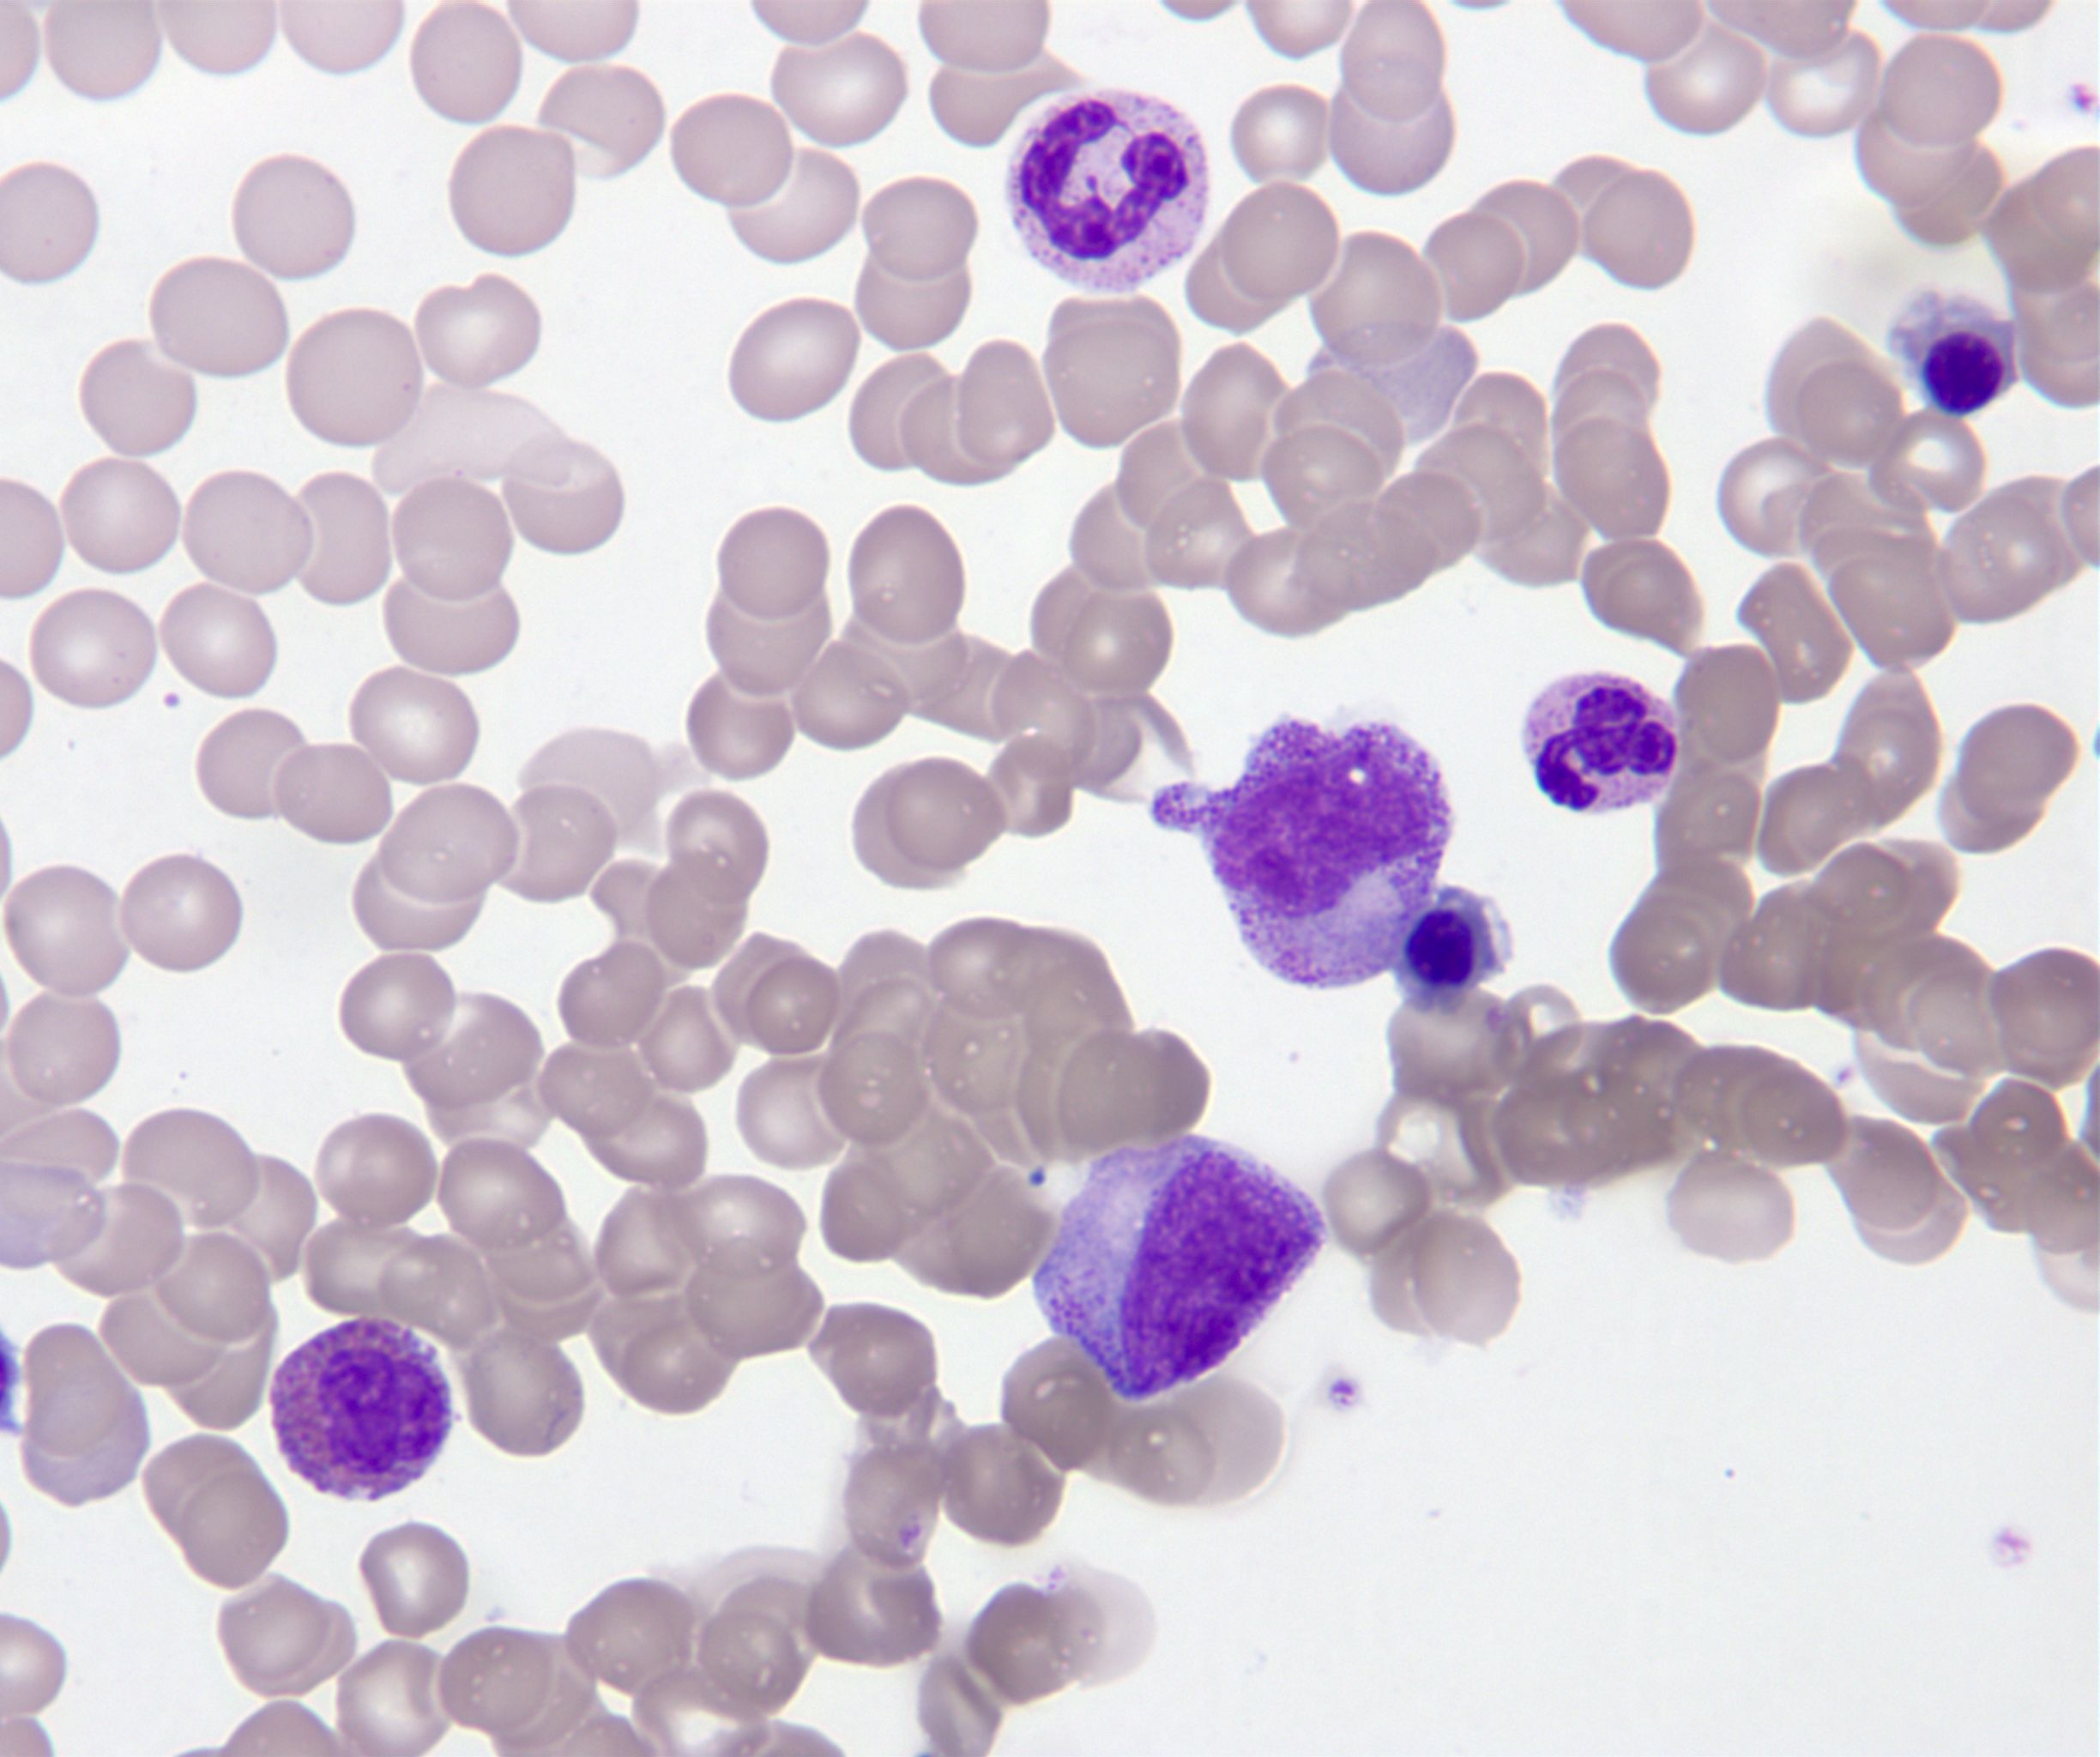24: (1878, 284, 2032, 420), (1394, 874, 1510, 1014)
3: (1139, 712, 1460, 995), (1020, 1122, 1331, 1410)
5: (1005, 84, 1212, 307)
6: (1523, 672, 1683, 824)
E4: (258, 1314, 459, 1507)
